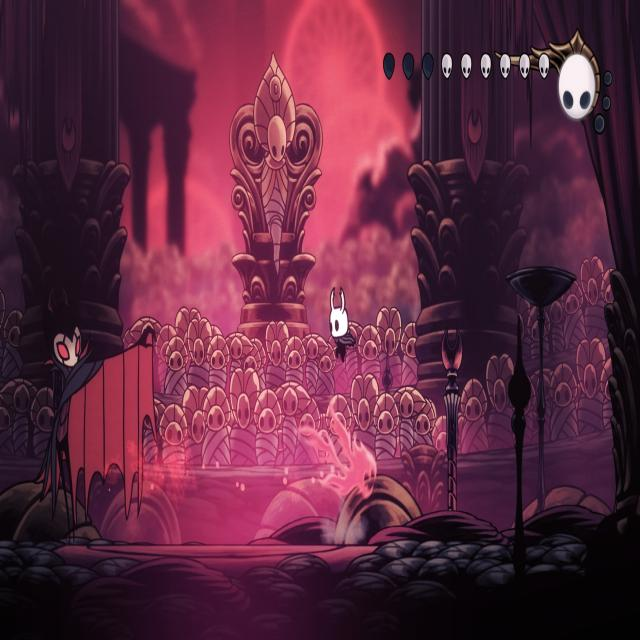Fire Bat: (299, 402, 376, 498)
Open Cloak: (33, 292, 165, 545)
Player: (327, 282, 357, 365)
